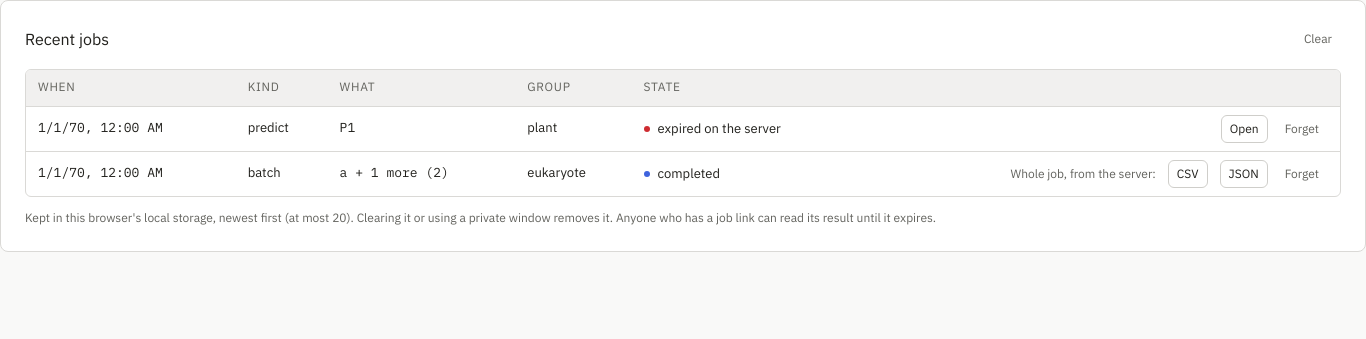
Scenario: RecentJobs › forgets one job and clears them all
Click the button with aria-label "Forget P1". click: (1302, 128)
box: [1276,114,1328,142]
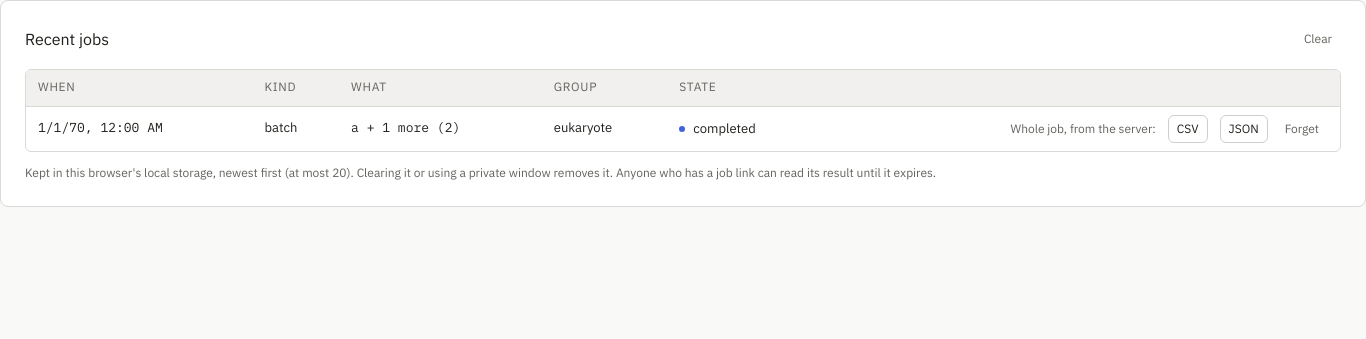
Click the button "Clear". click: (1318, 39)
box: [1295,25,1341,53]
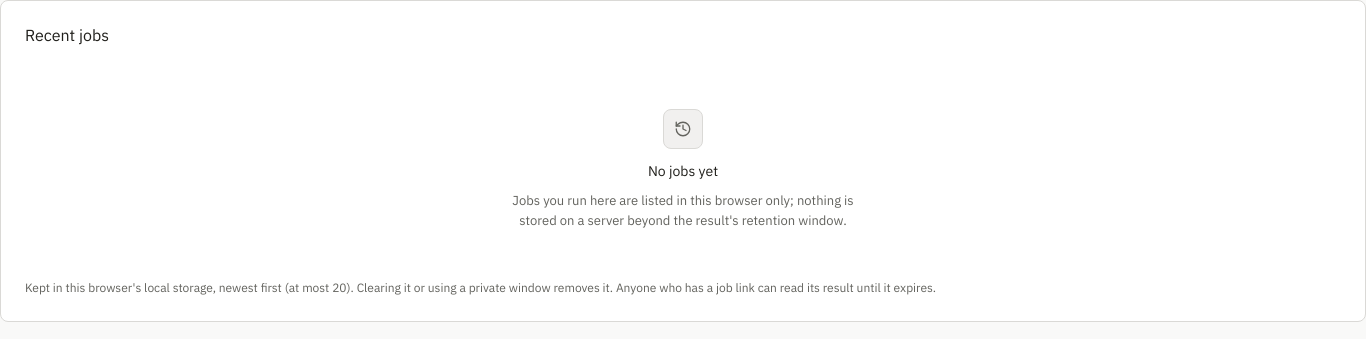
Expected: the text "No jobs yet" is shown, [648,161,718,183]
